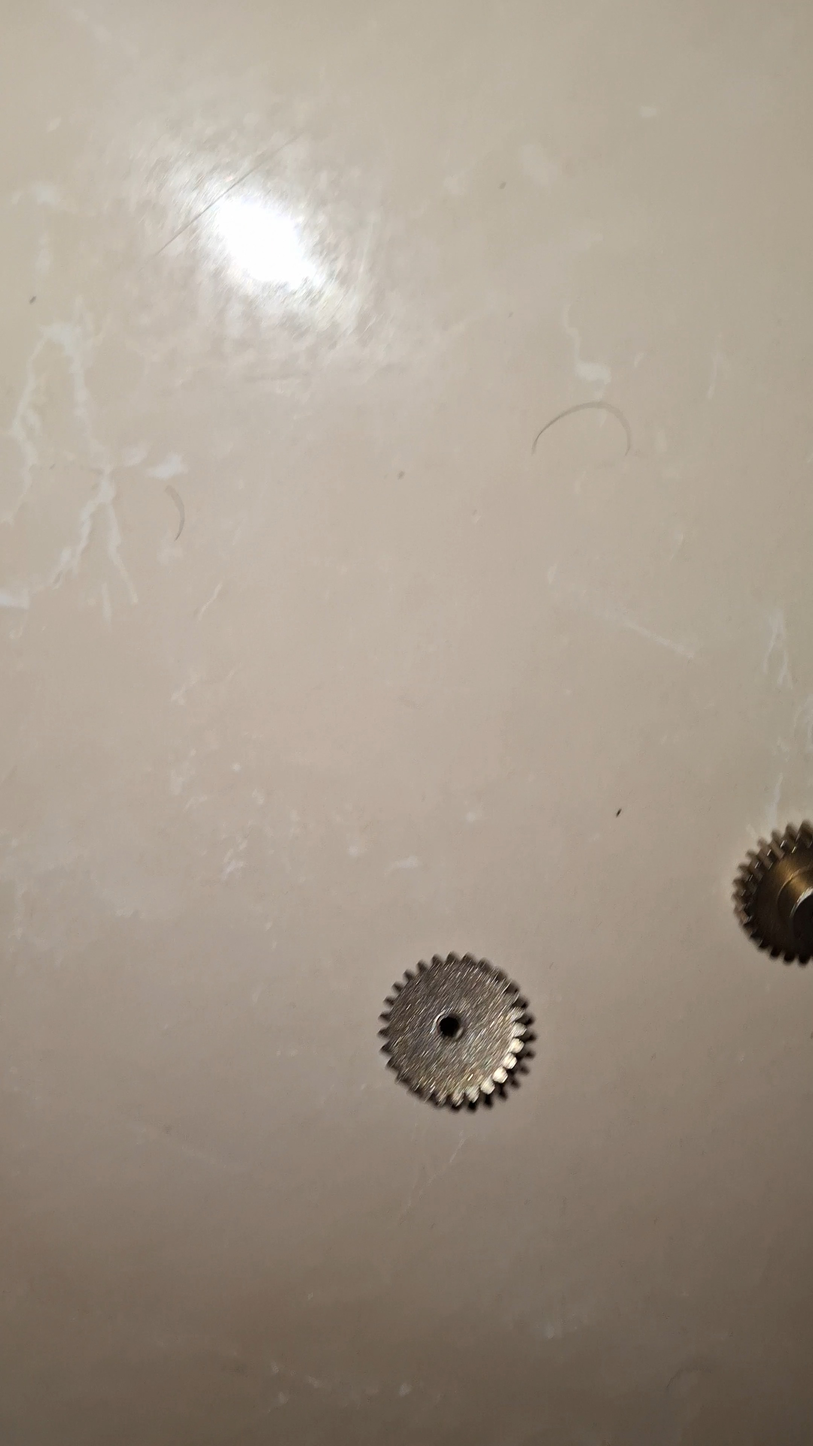spur gear: (380, 954, 530, 1107), (734, 822, 813, 962)
